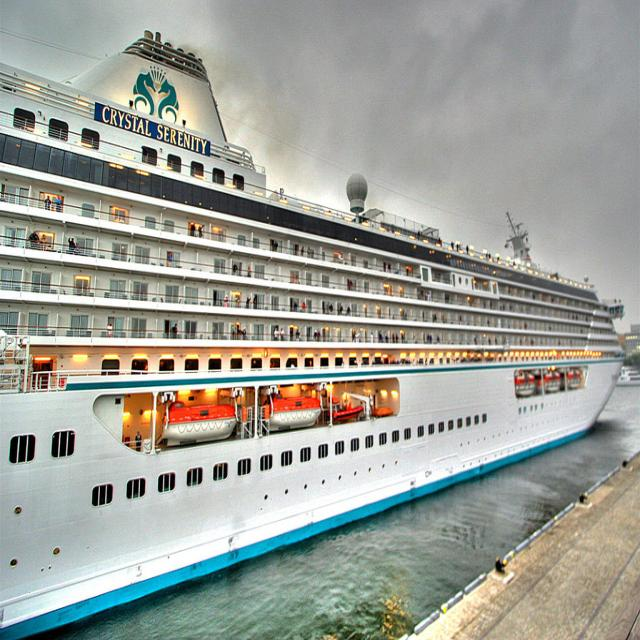Boat: (0, 18, 625, 587), (164, 397, 240, 440), (264, 394, 320, 429), (328, 398, 362, 420), (616, 362, 639, 391), (514, 366, 535, 397), (564, 366, 586, 390), (540, 364, 560, 390), (371, 403, 393, 421)
